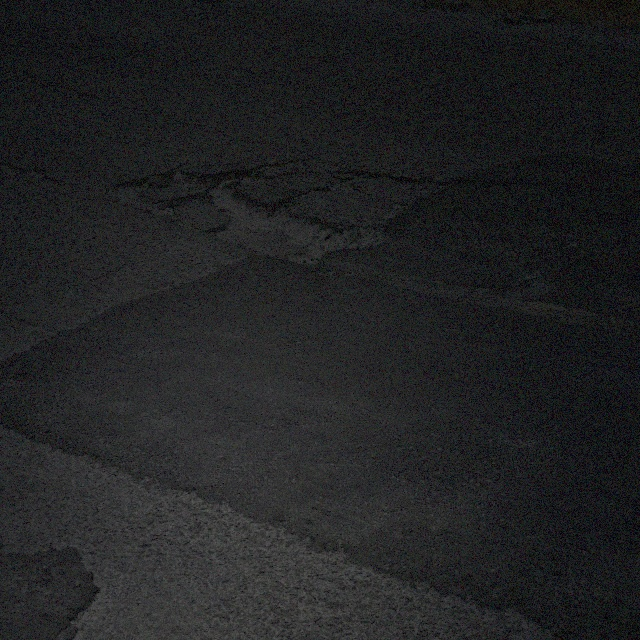pothole: (200, 157, 381, 267), (123, 166, 197, 200)
